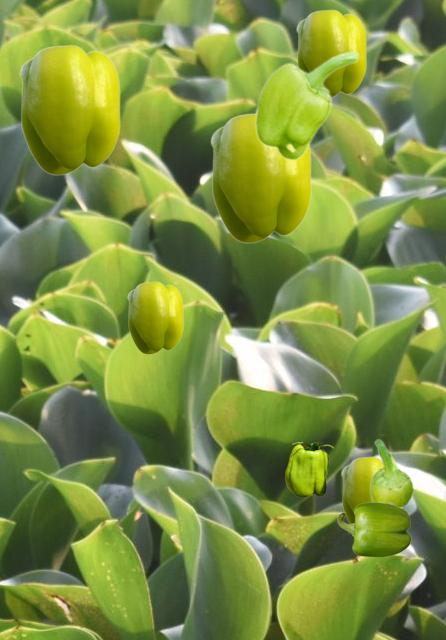bell_pepper: (19, 44, 119, 174), (210, 113, 310, 242), (254, 50, 359, 160), (296, 9, 365, 97), (127, 281, 182, 353), (337, 502, 410, 556), (369, 439, 413, 507), (341, 456, 381, 522), (285, 442, 332, 496)
